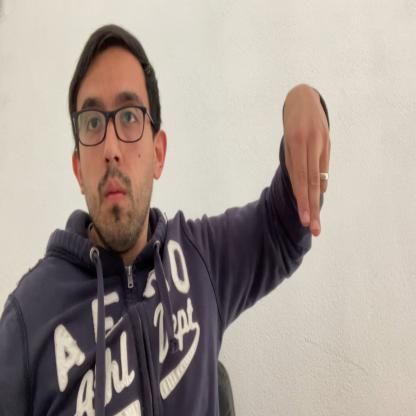N: (282, 87, 330, 237)
